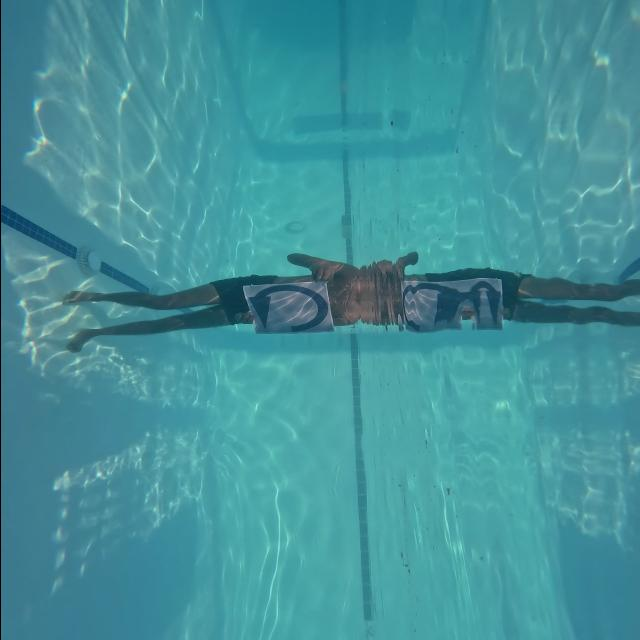blue_side: (244, 282, 331, 334)
